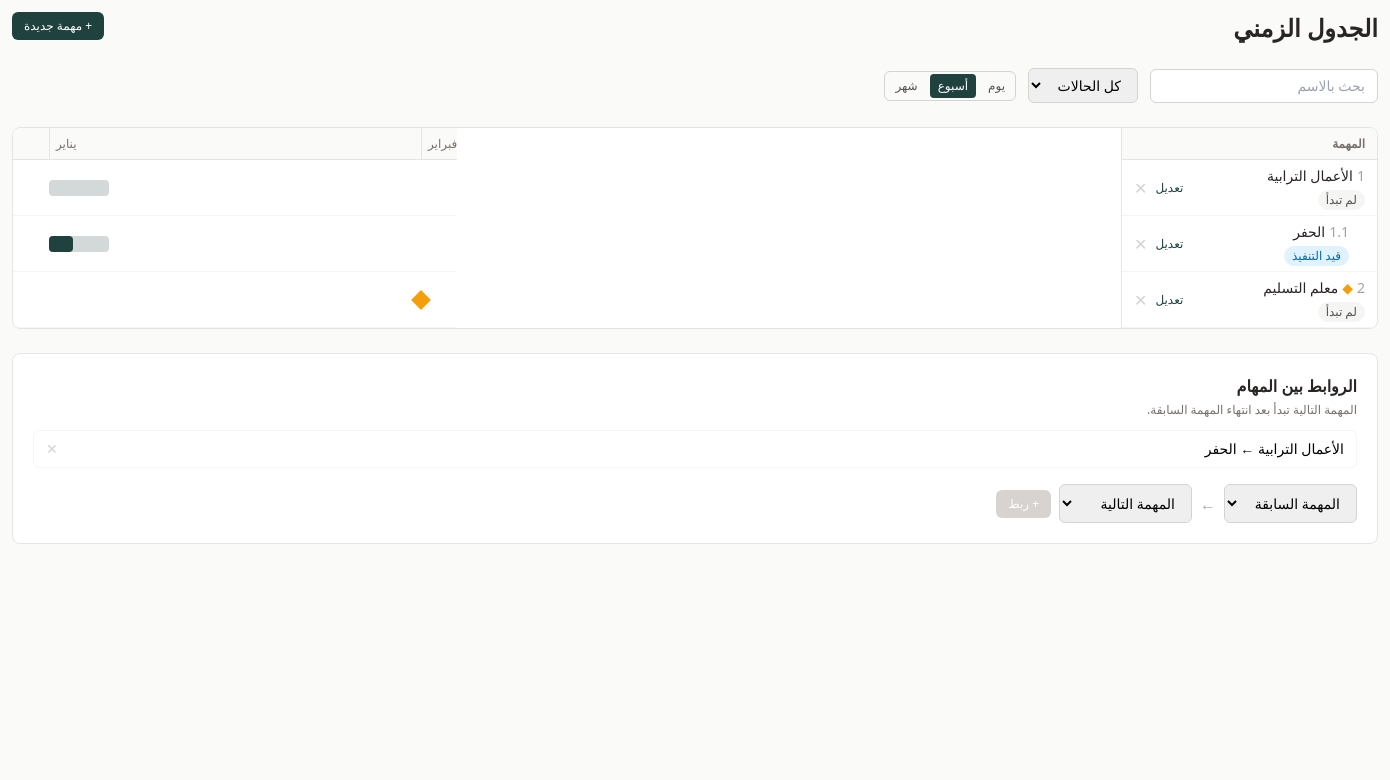
Test case: <ScheduleSection/> › creating a task posts the form fields and reloads the schedule
Expected: the element titled "الأعمال الترابية" is shown, [1267,166,1365,186]
Click the button "+ مهمة جديدة": (58, 26) [12,12,104,40]
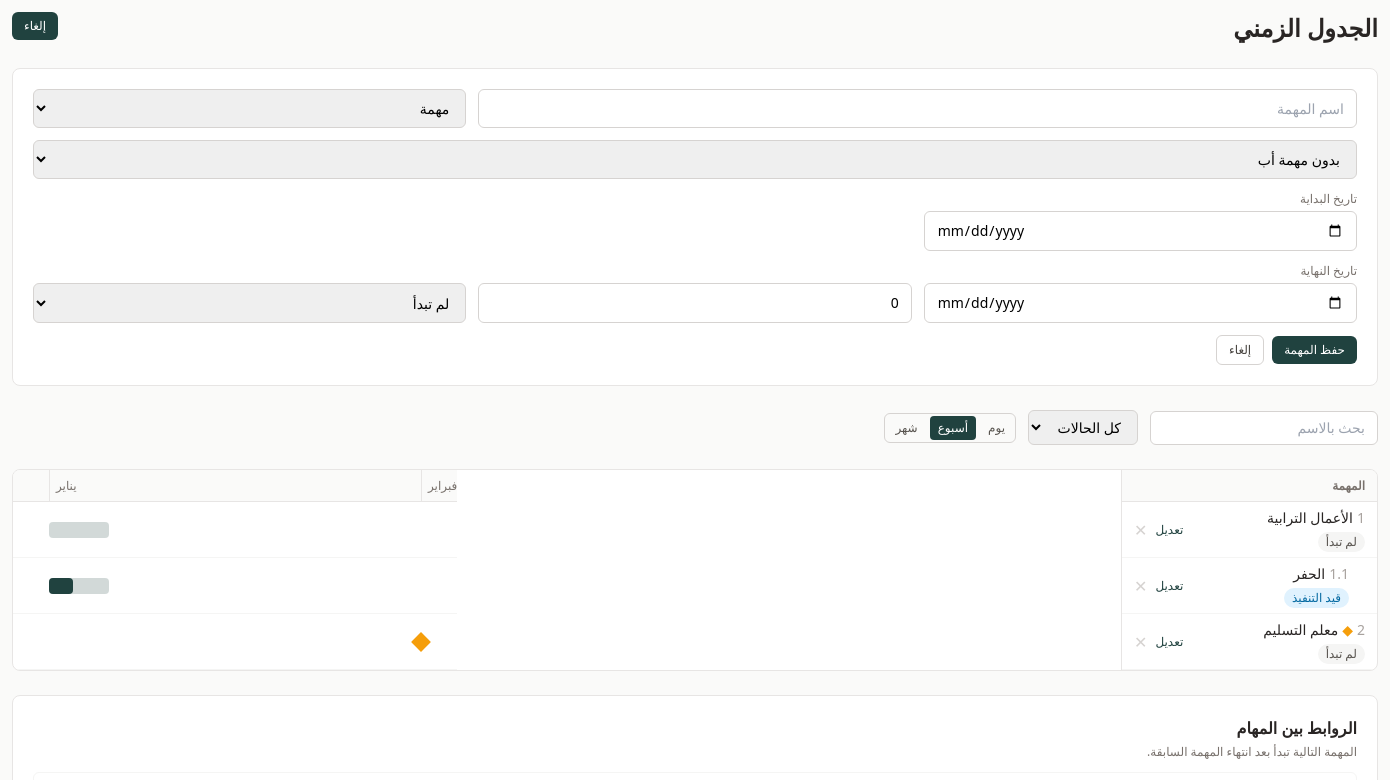
In the field with placeholder "اسم المهمة": (918, 108) [478,89,1357,128], type "مهمة جديدة"
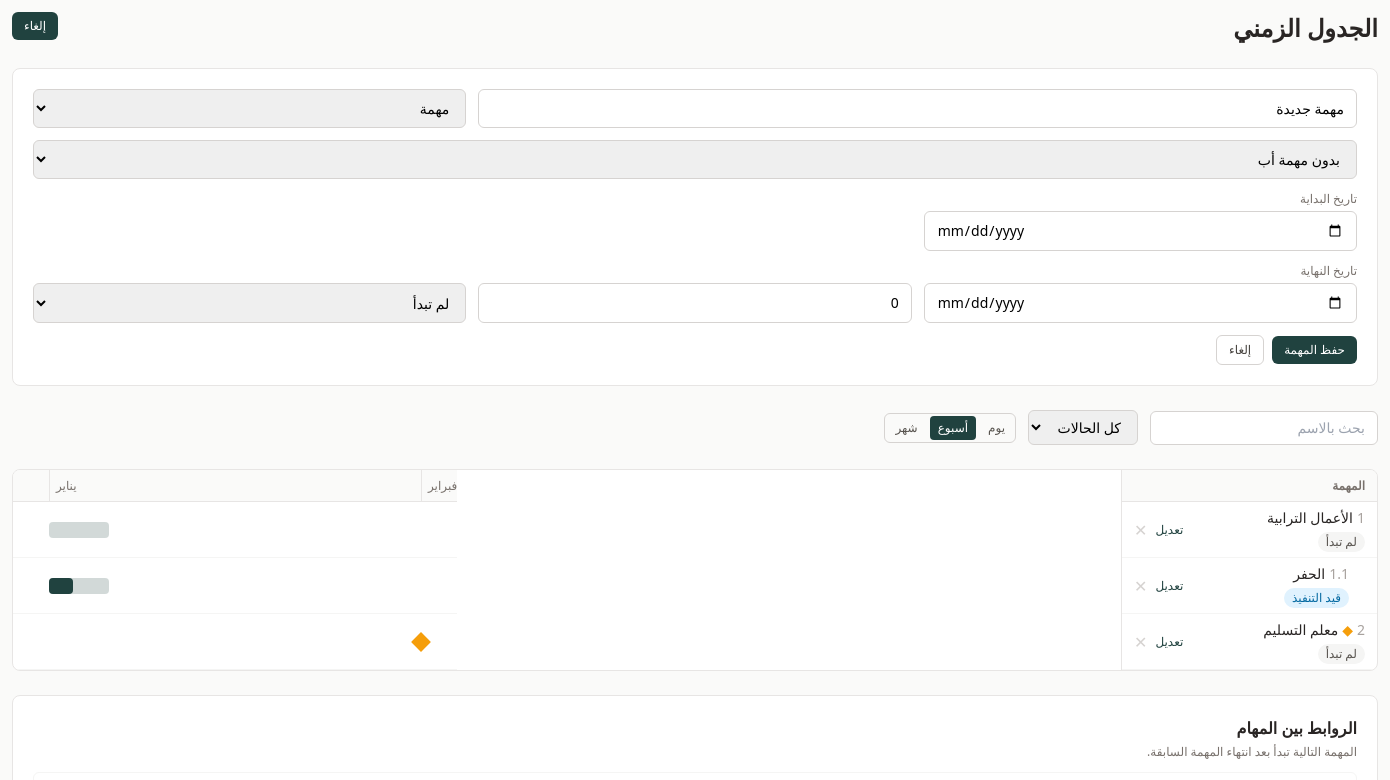
In the 1st date field: (1140, 231) [924,211,1357,251], type "2026-04-01"
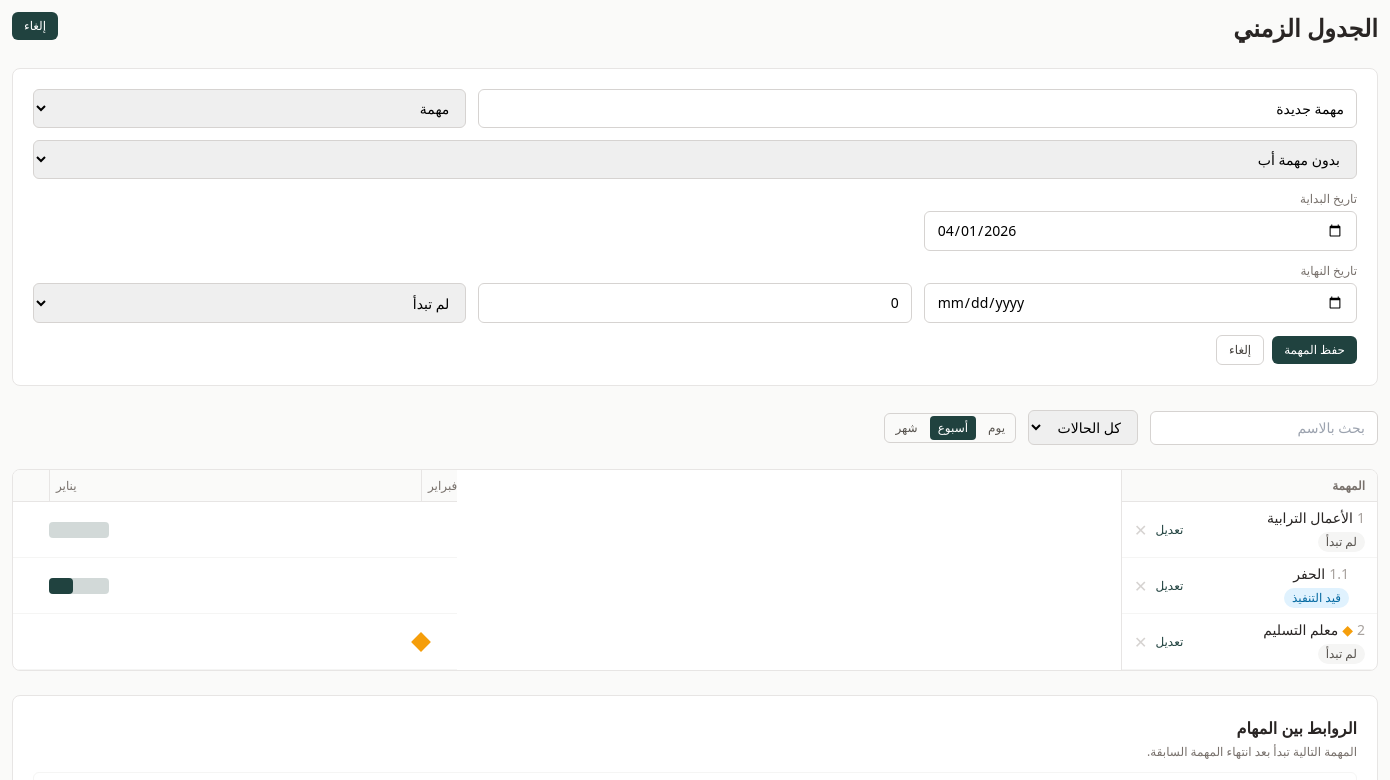
In the 2nd date field: (1140, 303) [924,283,1357,323], type "2026-04-10"
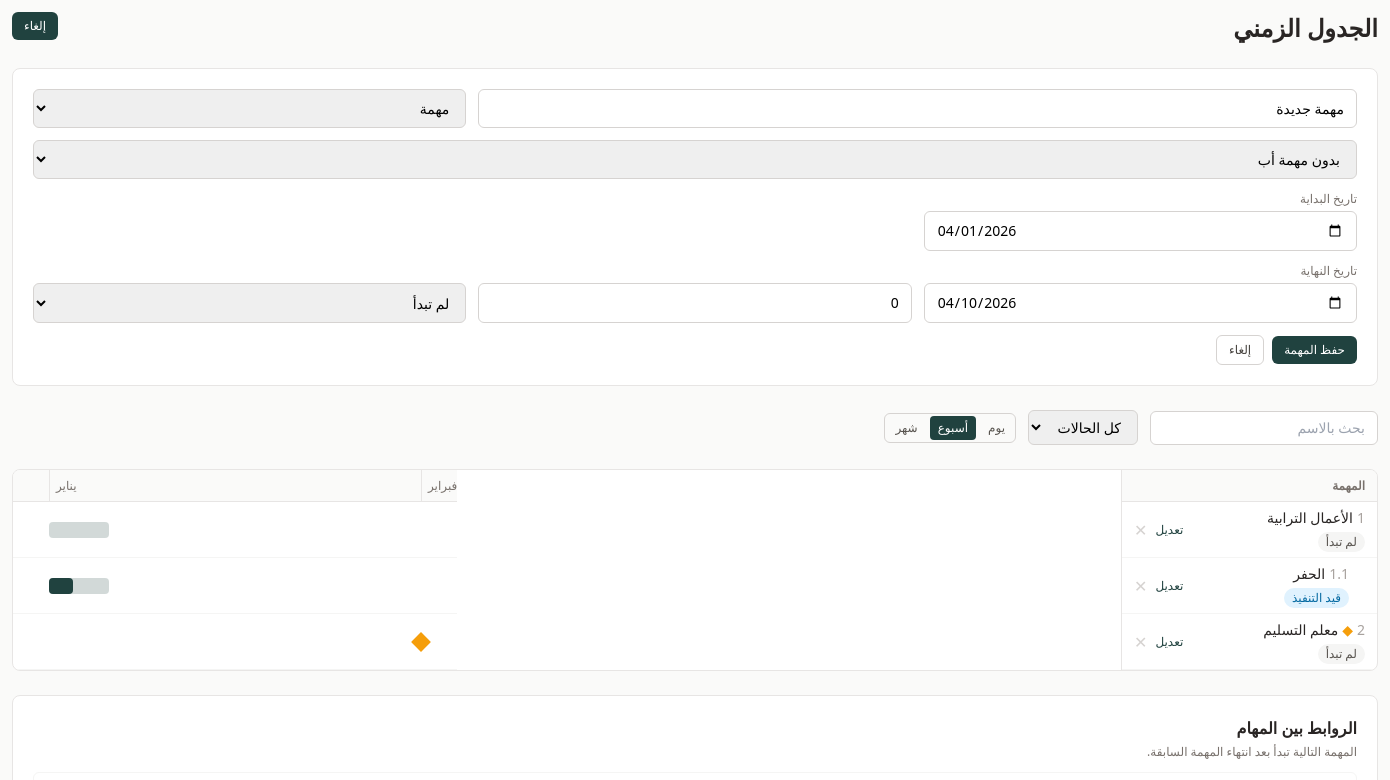
Click the button "حفظ المهمة": (1315, 350) [1272,336,1357,364]
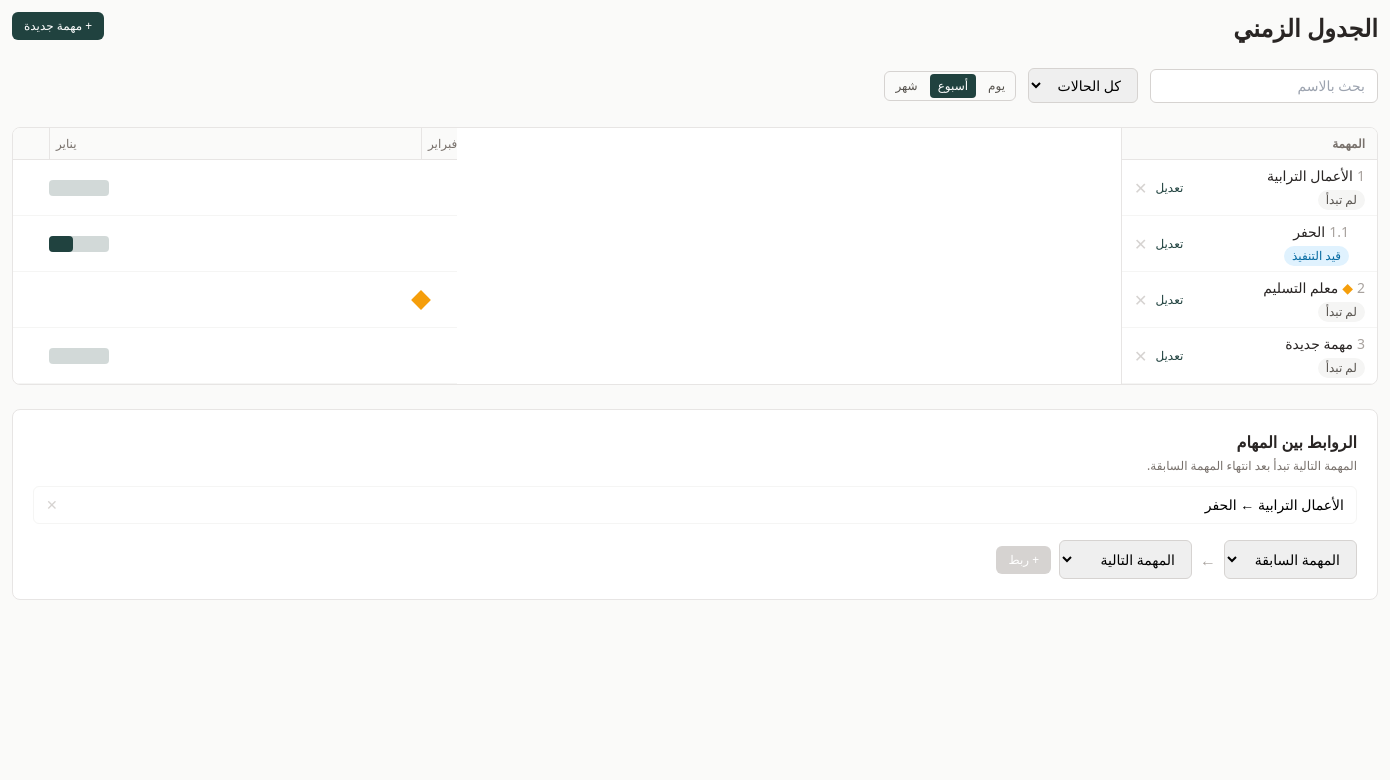
Expected: the element titled "مهمة جديدة" is shown, [1285,334,1365,354]
